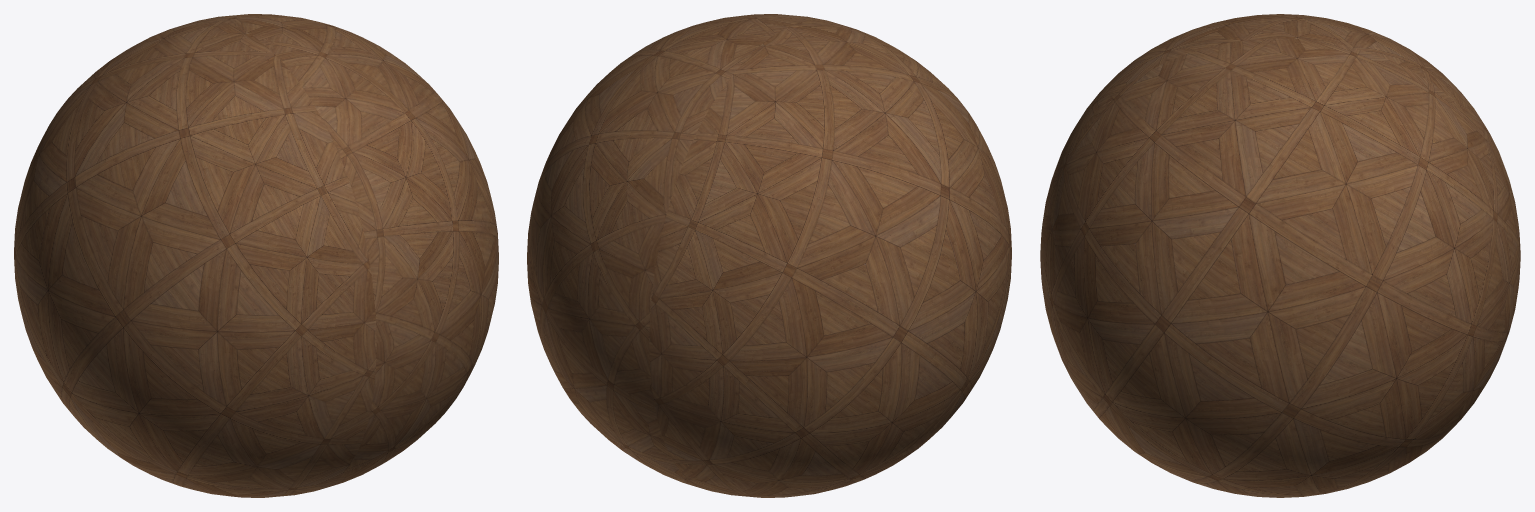
The model's file is wooden_parquet.glb.
3 views of the same model, side by side, from view 1: azimuth 30°, elevation 25°; view 2: azimuth 150°, elevation 25°; view 3: azimuth 270°, elevation 25° (orthographic).
Visible parts, largest first — view 1: Cube; view 2: Cube; view 3: Cube.
Part boxes in pixels (x1,y1,x2,y2): Cube: [14, 14, 498, 497]; Cube: [527, 14, 1011, 497]; Cube: [1040, 14, 1520, 497].
Size of the model in its own units: 167 by 167 by 167.
1 material, 1 textured.
